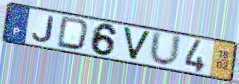4: (184, 38, 207, 75)
6: (88, 22, 120, 58)
D: (55, 16, 91, 52)
J: (31, 14, 56, 44)
U: (148, 30, 183, 68)
V: (121, 25, 153, 63)
